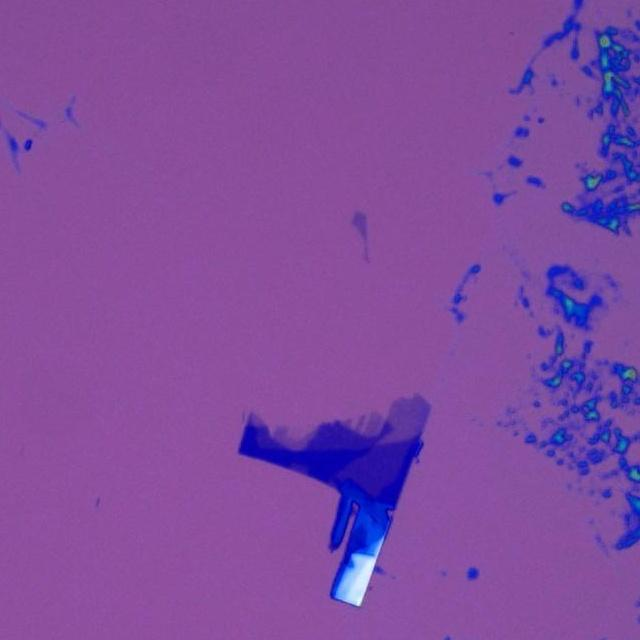monolayer-eWW4: (343, 393, 425, 442), (270, 424, 314, 454)
